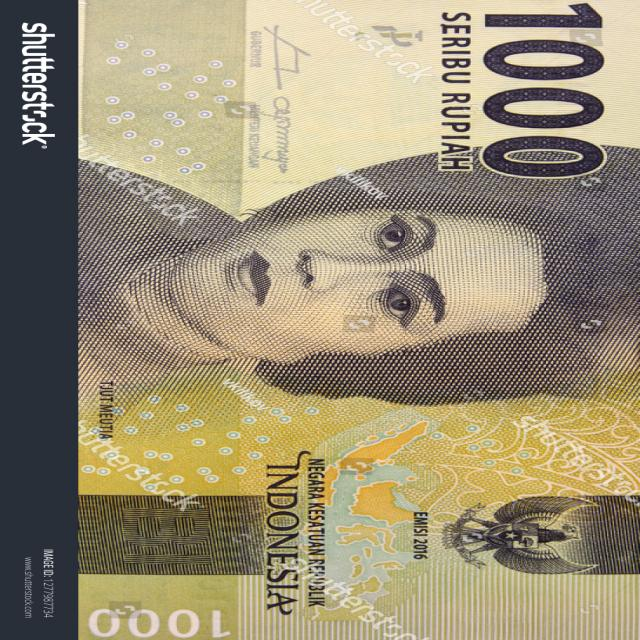1000IndonesianRupiah: (74, 2, 634, 635)
